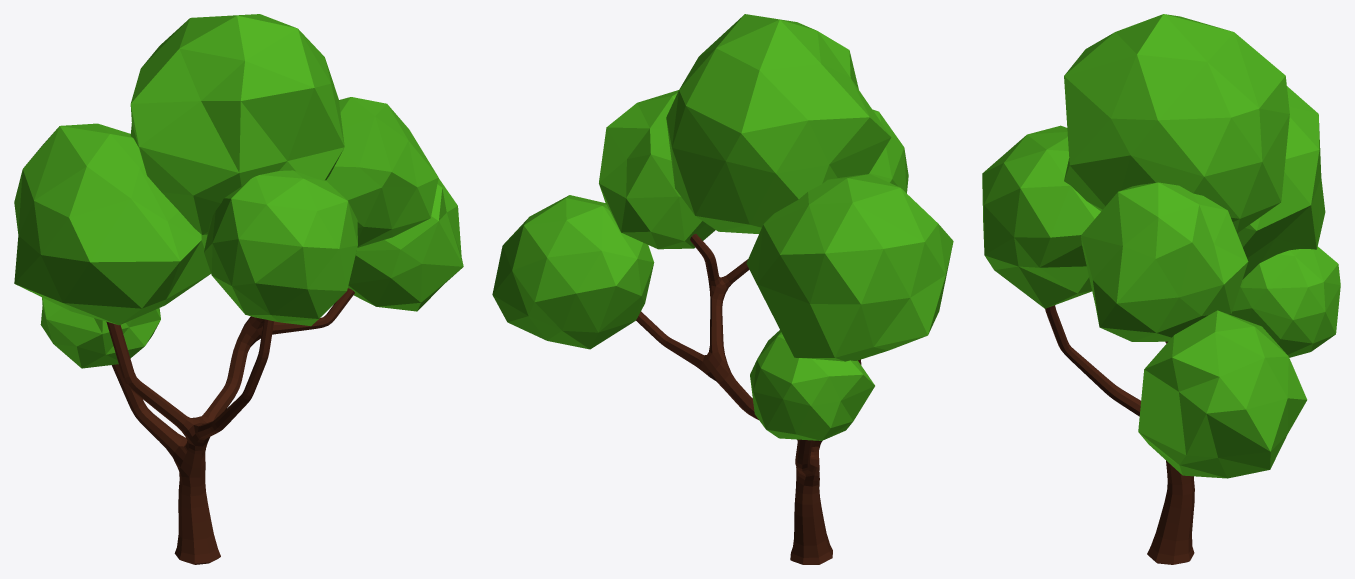
File: GreenTree02.fbx
The picture shows the model from 3 angles, left to right: view 1: azimuth 30°, elevation 25°; view 2: azimuth 150°, elevation 25°; view 3: azimuth 270°, elevation 25°; orthographic projection. The views are drawn at different scales.
Parts seen in each view (by area): view 1: Plane; view 2: Plane; view 3: Plane.
Boxes of the visible parts, x1,y1,x2,y2 form: Plane: (14,14,463,564); Plane: (492,14,953,564); Plane: (982,14,1340,564).
Size of the model in its own units: 1466 by 1753 by 1014.
